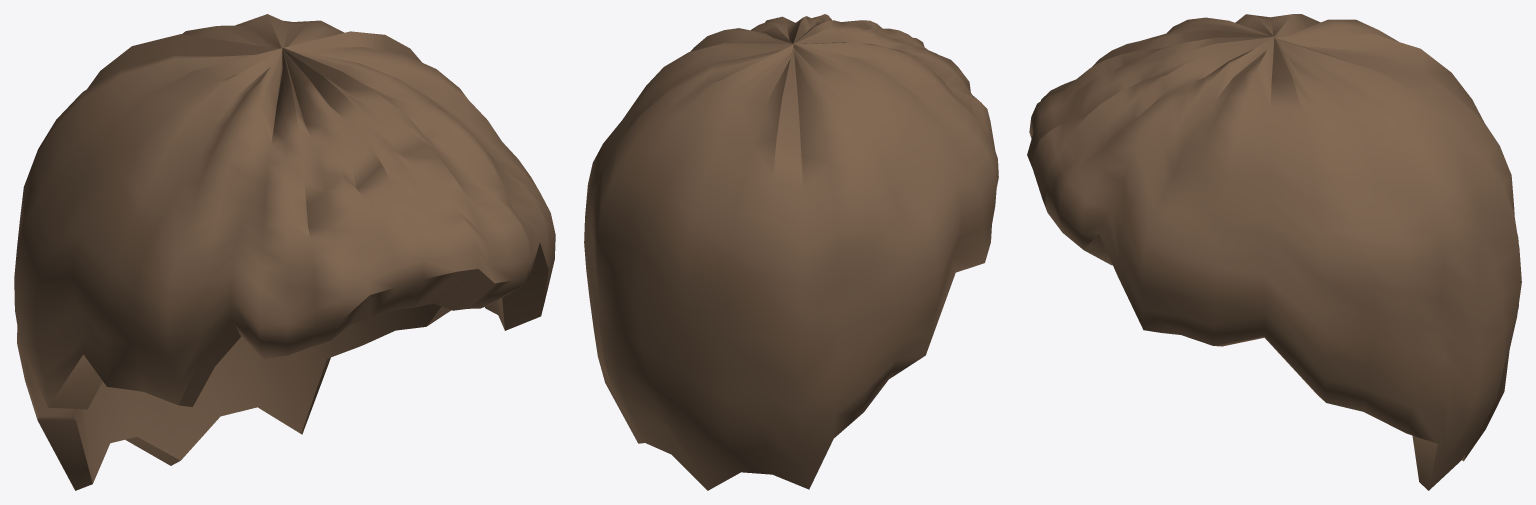
Rendered from Char_HairShort.fbx.
3 renders of one model, left to right at view 1: azimuth 30°, elevation 25°; view 2: azimuth 150°, elevation 25°; view 3: azimuth 270°, elevation 25°, orthographic. The views are drawn at different scales.
Parts seen in each view (by area): view 1: Char_HairShort; view 2: Char_HairShort; view 3: Char_HairShort.
Boxes of the visible parts, x1,y1,x2,y2 form: Char_HairShort: [14, 14, 555, 490]; Char_HairShort: [584, 14, 998, 490]; Char_HairShort: [1027, 14, 1521, 490].
Bounding box in the file's own units: 0.1995 × 0.2174 × 0.2292.
